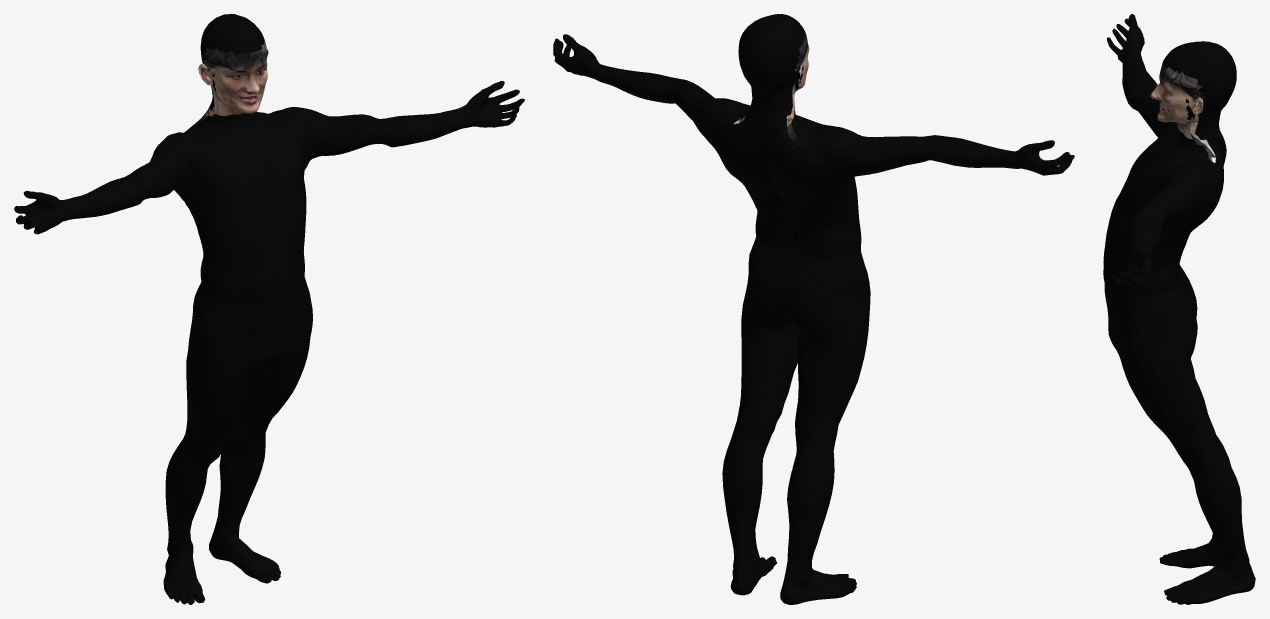
3 renders of one model, left to right at view 1: azimuth 30°, elevation 25°; view 2: azimuth 150°, elevation 25°; view 3: azimuth 270°, elevation 25°, orthographic. The views are drawn at different scales.
Bounding box in the file's own units: 1.46 × 1.54 × 0.3895.
1 material, 1 textured.
